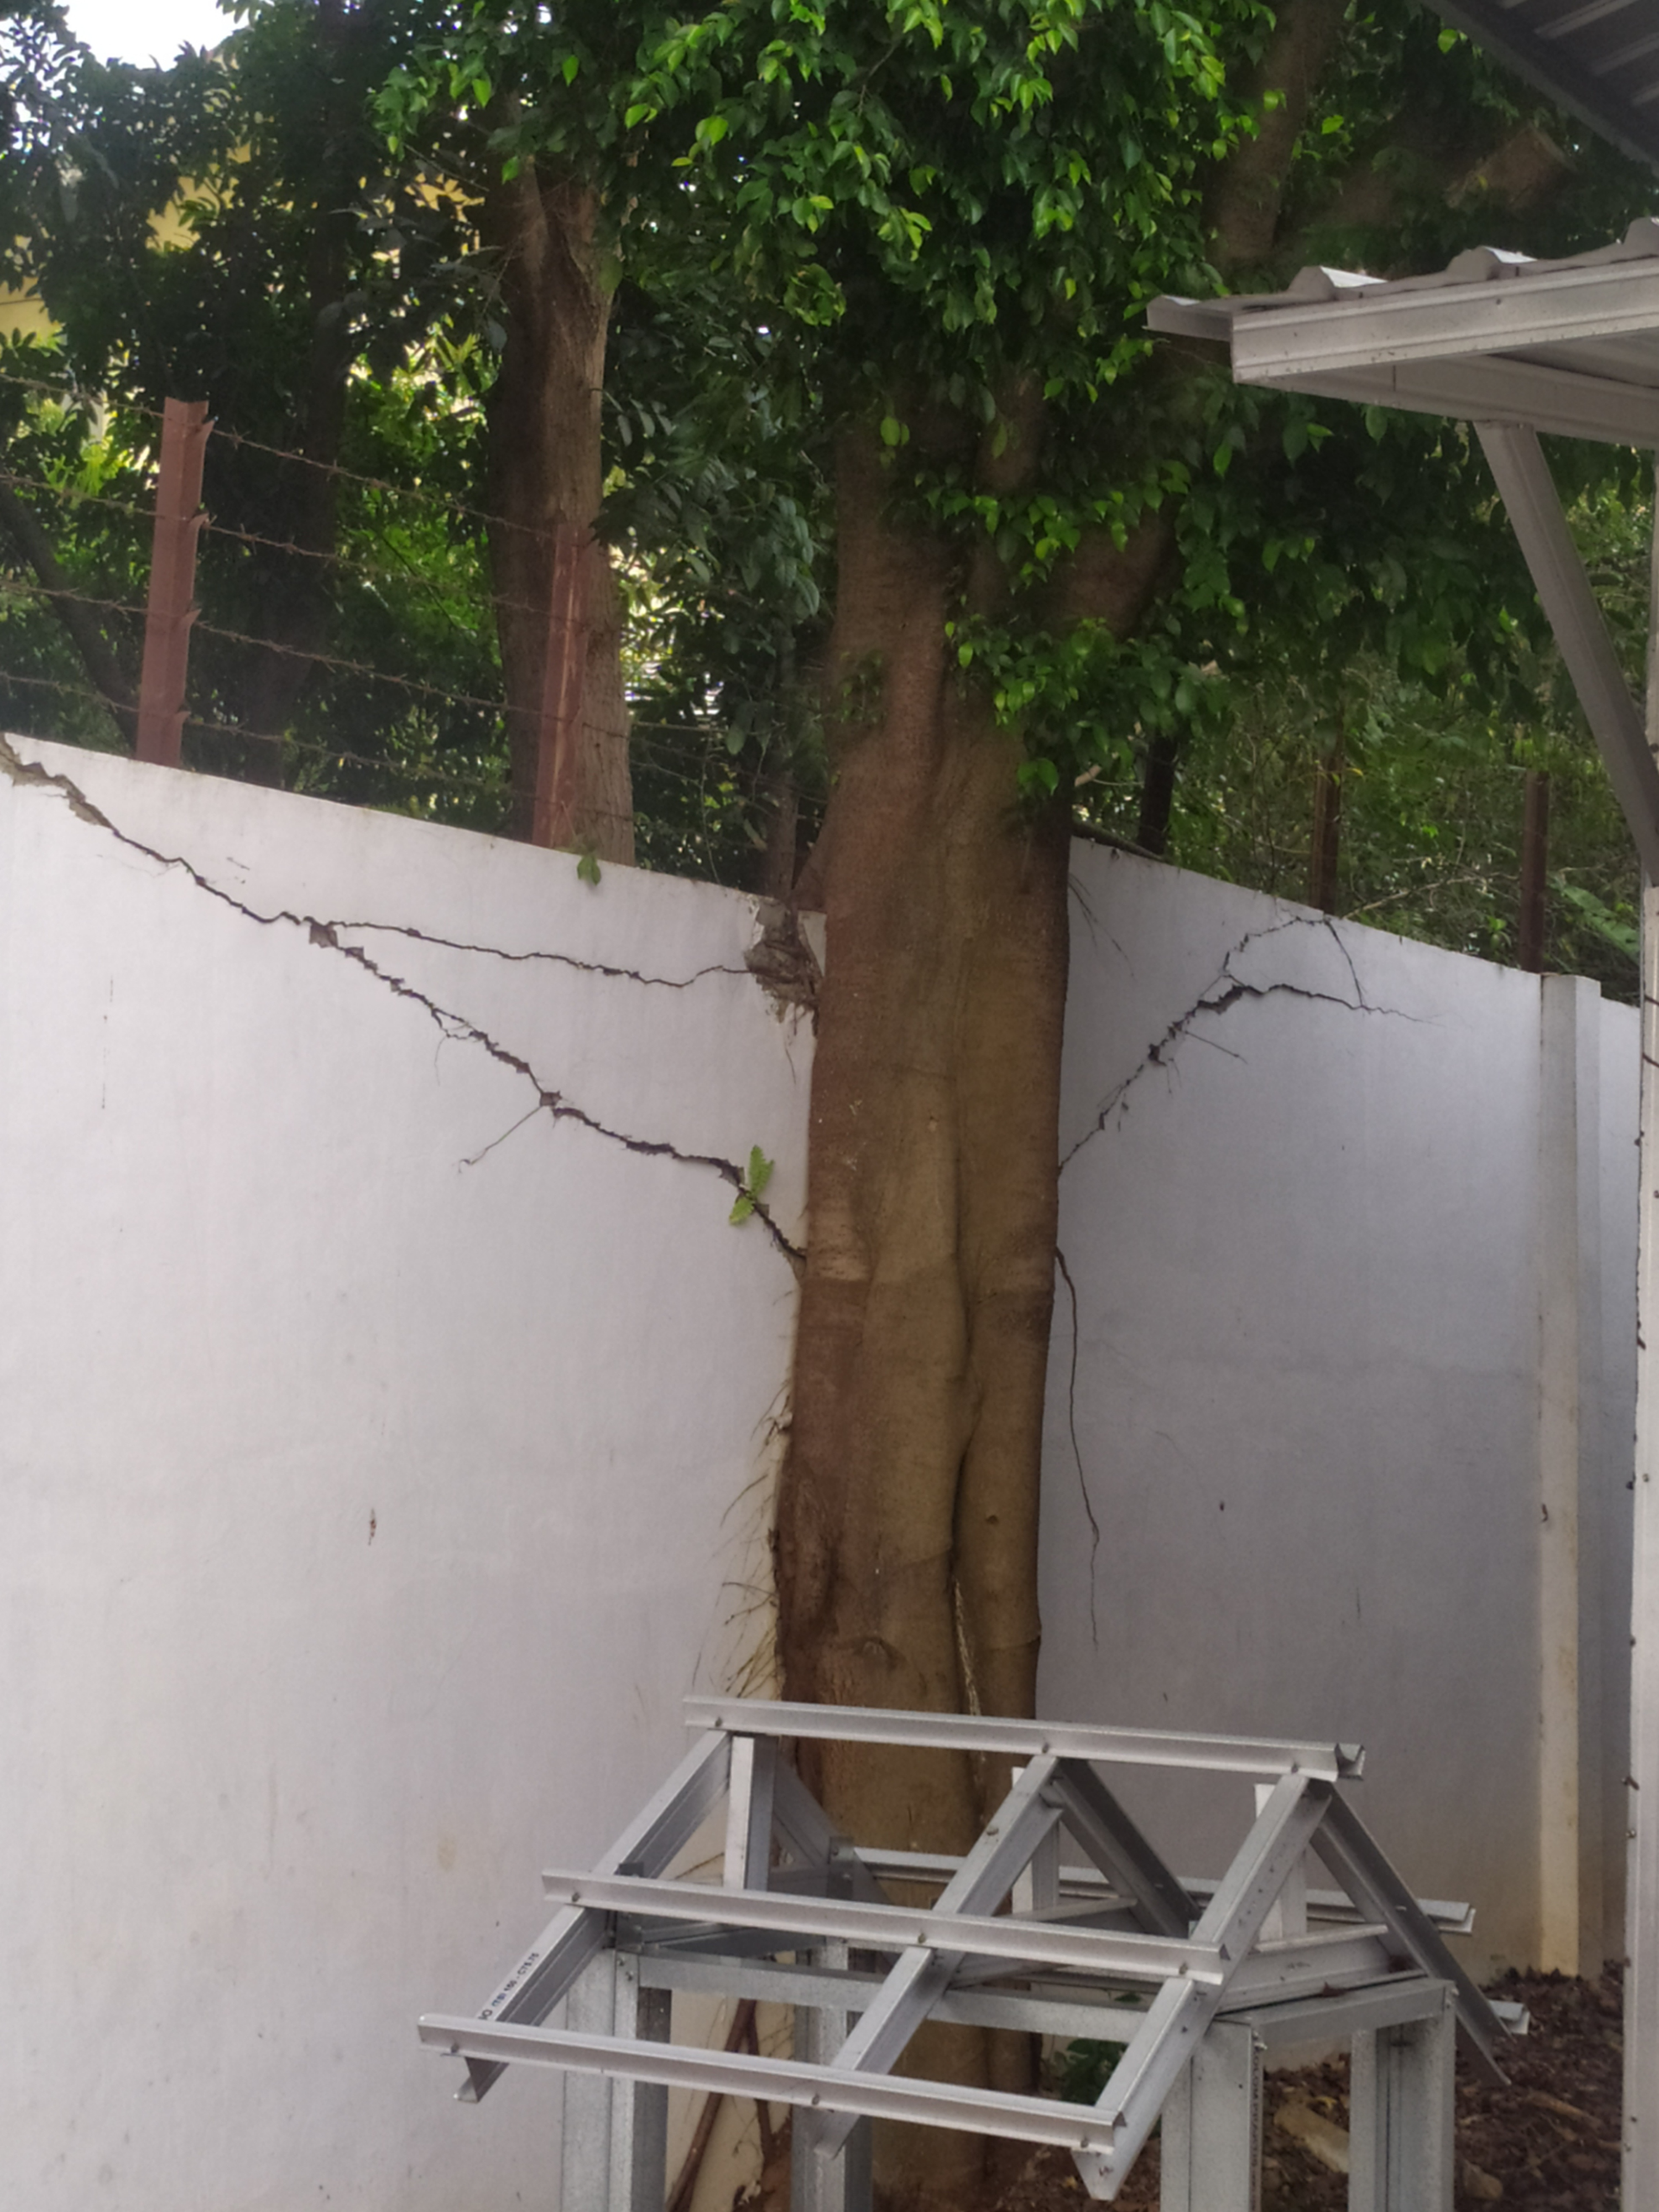concrete column: (1532, 968, 1619, 1984)
crack: (3, 744, 810, 1282), (1054, 869, 1453, 1177), (1054, 1251, 1122, 1660)
